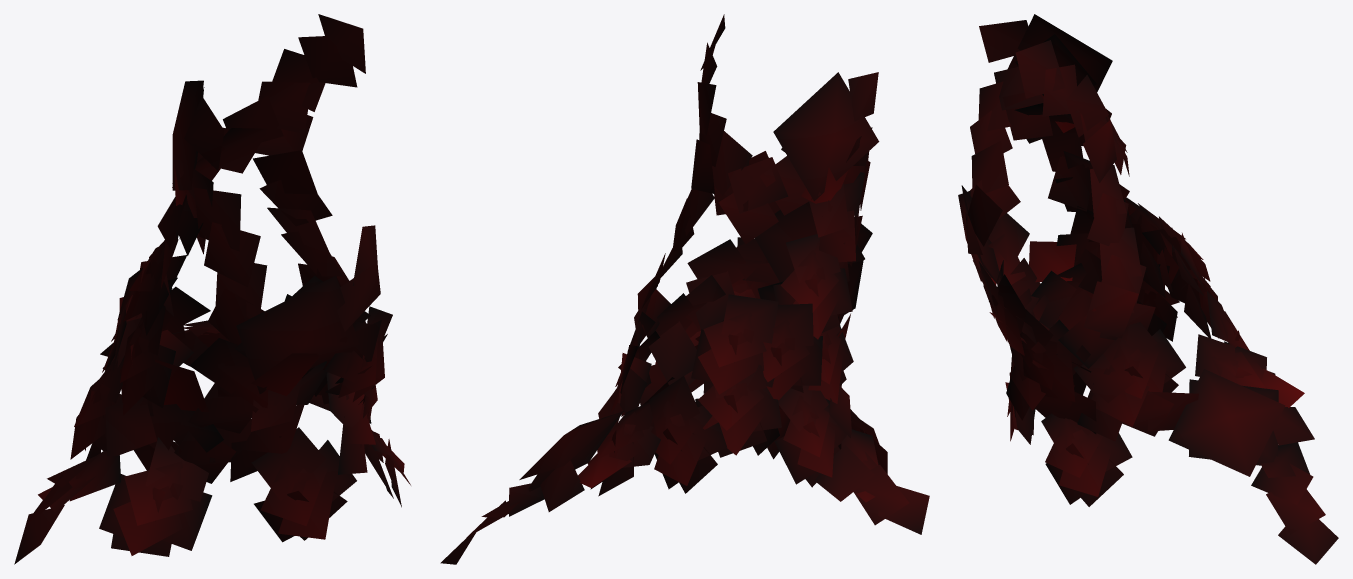
File: TGV_Hero_Tree_01A_Ivy.fbx
3 views of the same model, side by side, from view 1: azimuth 30°, elevation 25°; view 2: azimuth 150°, elevation 25°; view 3: azimuth 270°, elevation 25° (orthographic). The views are drawn at different scales.
Parts seen in each view (by area): view 1: TGV_Hero_Tree_01A_Ivy_LOD0; view 2: TGV_Hero_Tree_01A_Ivy_LOD0; view 3: TGV_Hero_Tree_01A_Ivy_LOD0.
Part boxes in pixels (left/top/right/bottom): TGV_Hero_Tree_01A_Ivy_LOD0: left=14, top=14, right=410, bottom=564; TGV_Hero_Tree_01A_Ivy_LOD0: left=440, top=14, right=929, bottom=564; TGV_Hero_Tree_01A_Ivy_LOD0: left=958, top=14, right=1338, bottom=564.
Size of what is drawn, in the model's own units: 287 by 345 by 261.
